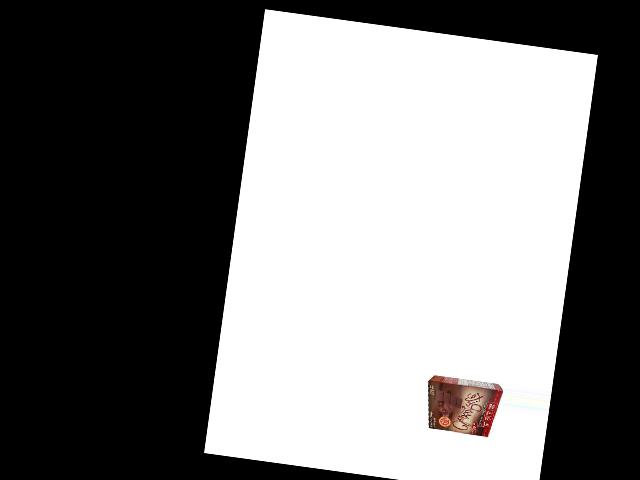chocolate: (421, 374, 501, 439)
